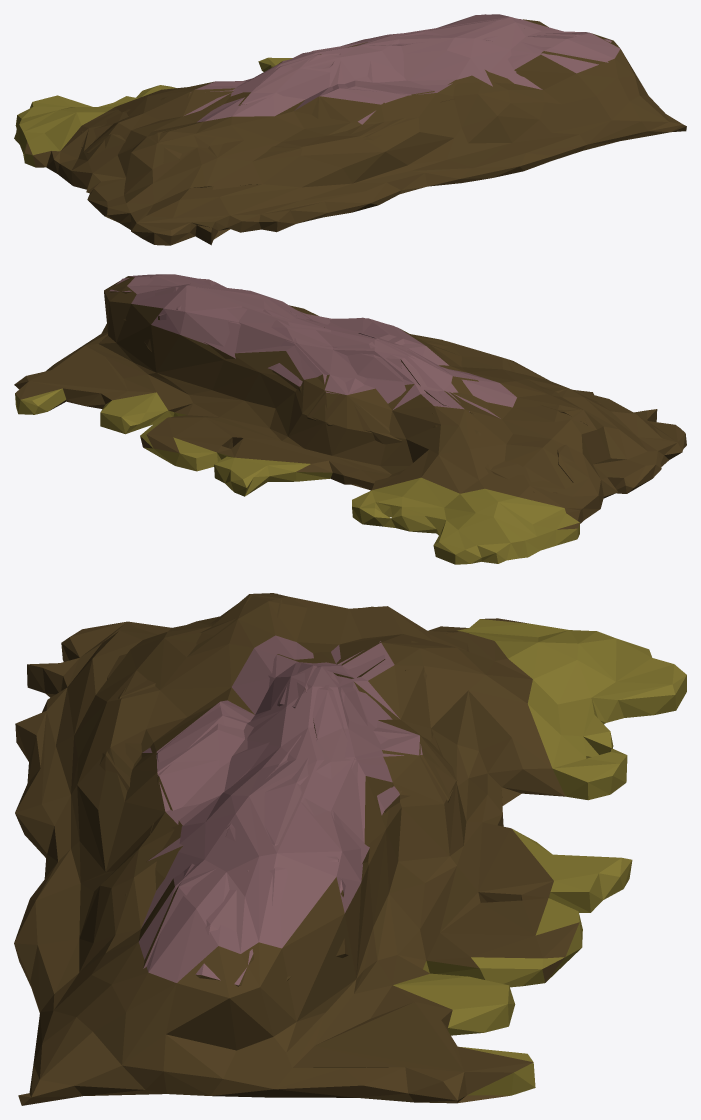
Rendered from PulauTanjungPinang.fbx.
3 renders of one model, top to bottom at view 1: azimuth 30°, elevation 25°; view 2: azimuth 150°, elevation 25°; view 3: azimuth 270°, elevation 25°, orthographic. The views are drawn at different scales.
Visible parts, largest first — view 1: PULAU TANJUNG PINANG; view 2: PULAU TANJUNG PINANG; view 3: PULAU TANJUNG PINANG.
Boxes of the visible parts, x1=… form: PULAU TANJUNG PINANG: x1=14, y1=14, x2=686, y2=245; PULAU TANJUNG PINANG: x1=14, y1=274, x2=686, y2=564; PULAU TANJUNG PINANG: x1=14, y1=593, x2=686, y2=1105.
Size of the model in its own units: 4562 by 739 by 2743.
